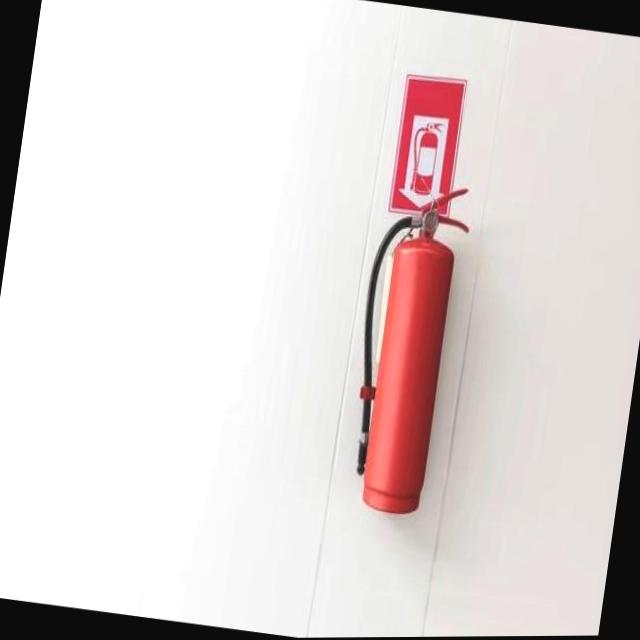FireExtinguisher: (332, 169, 478, 525)
